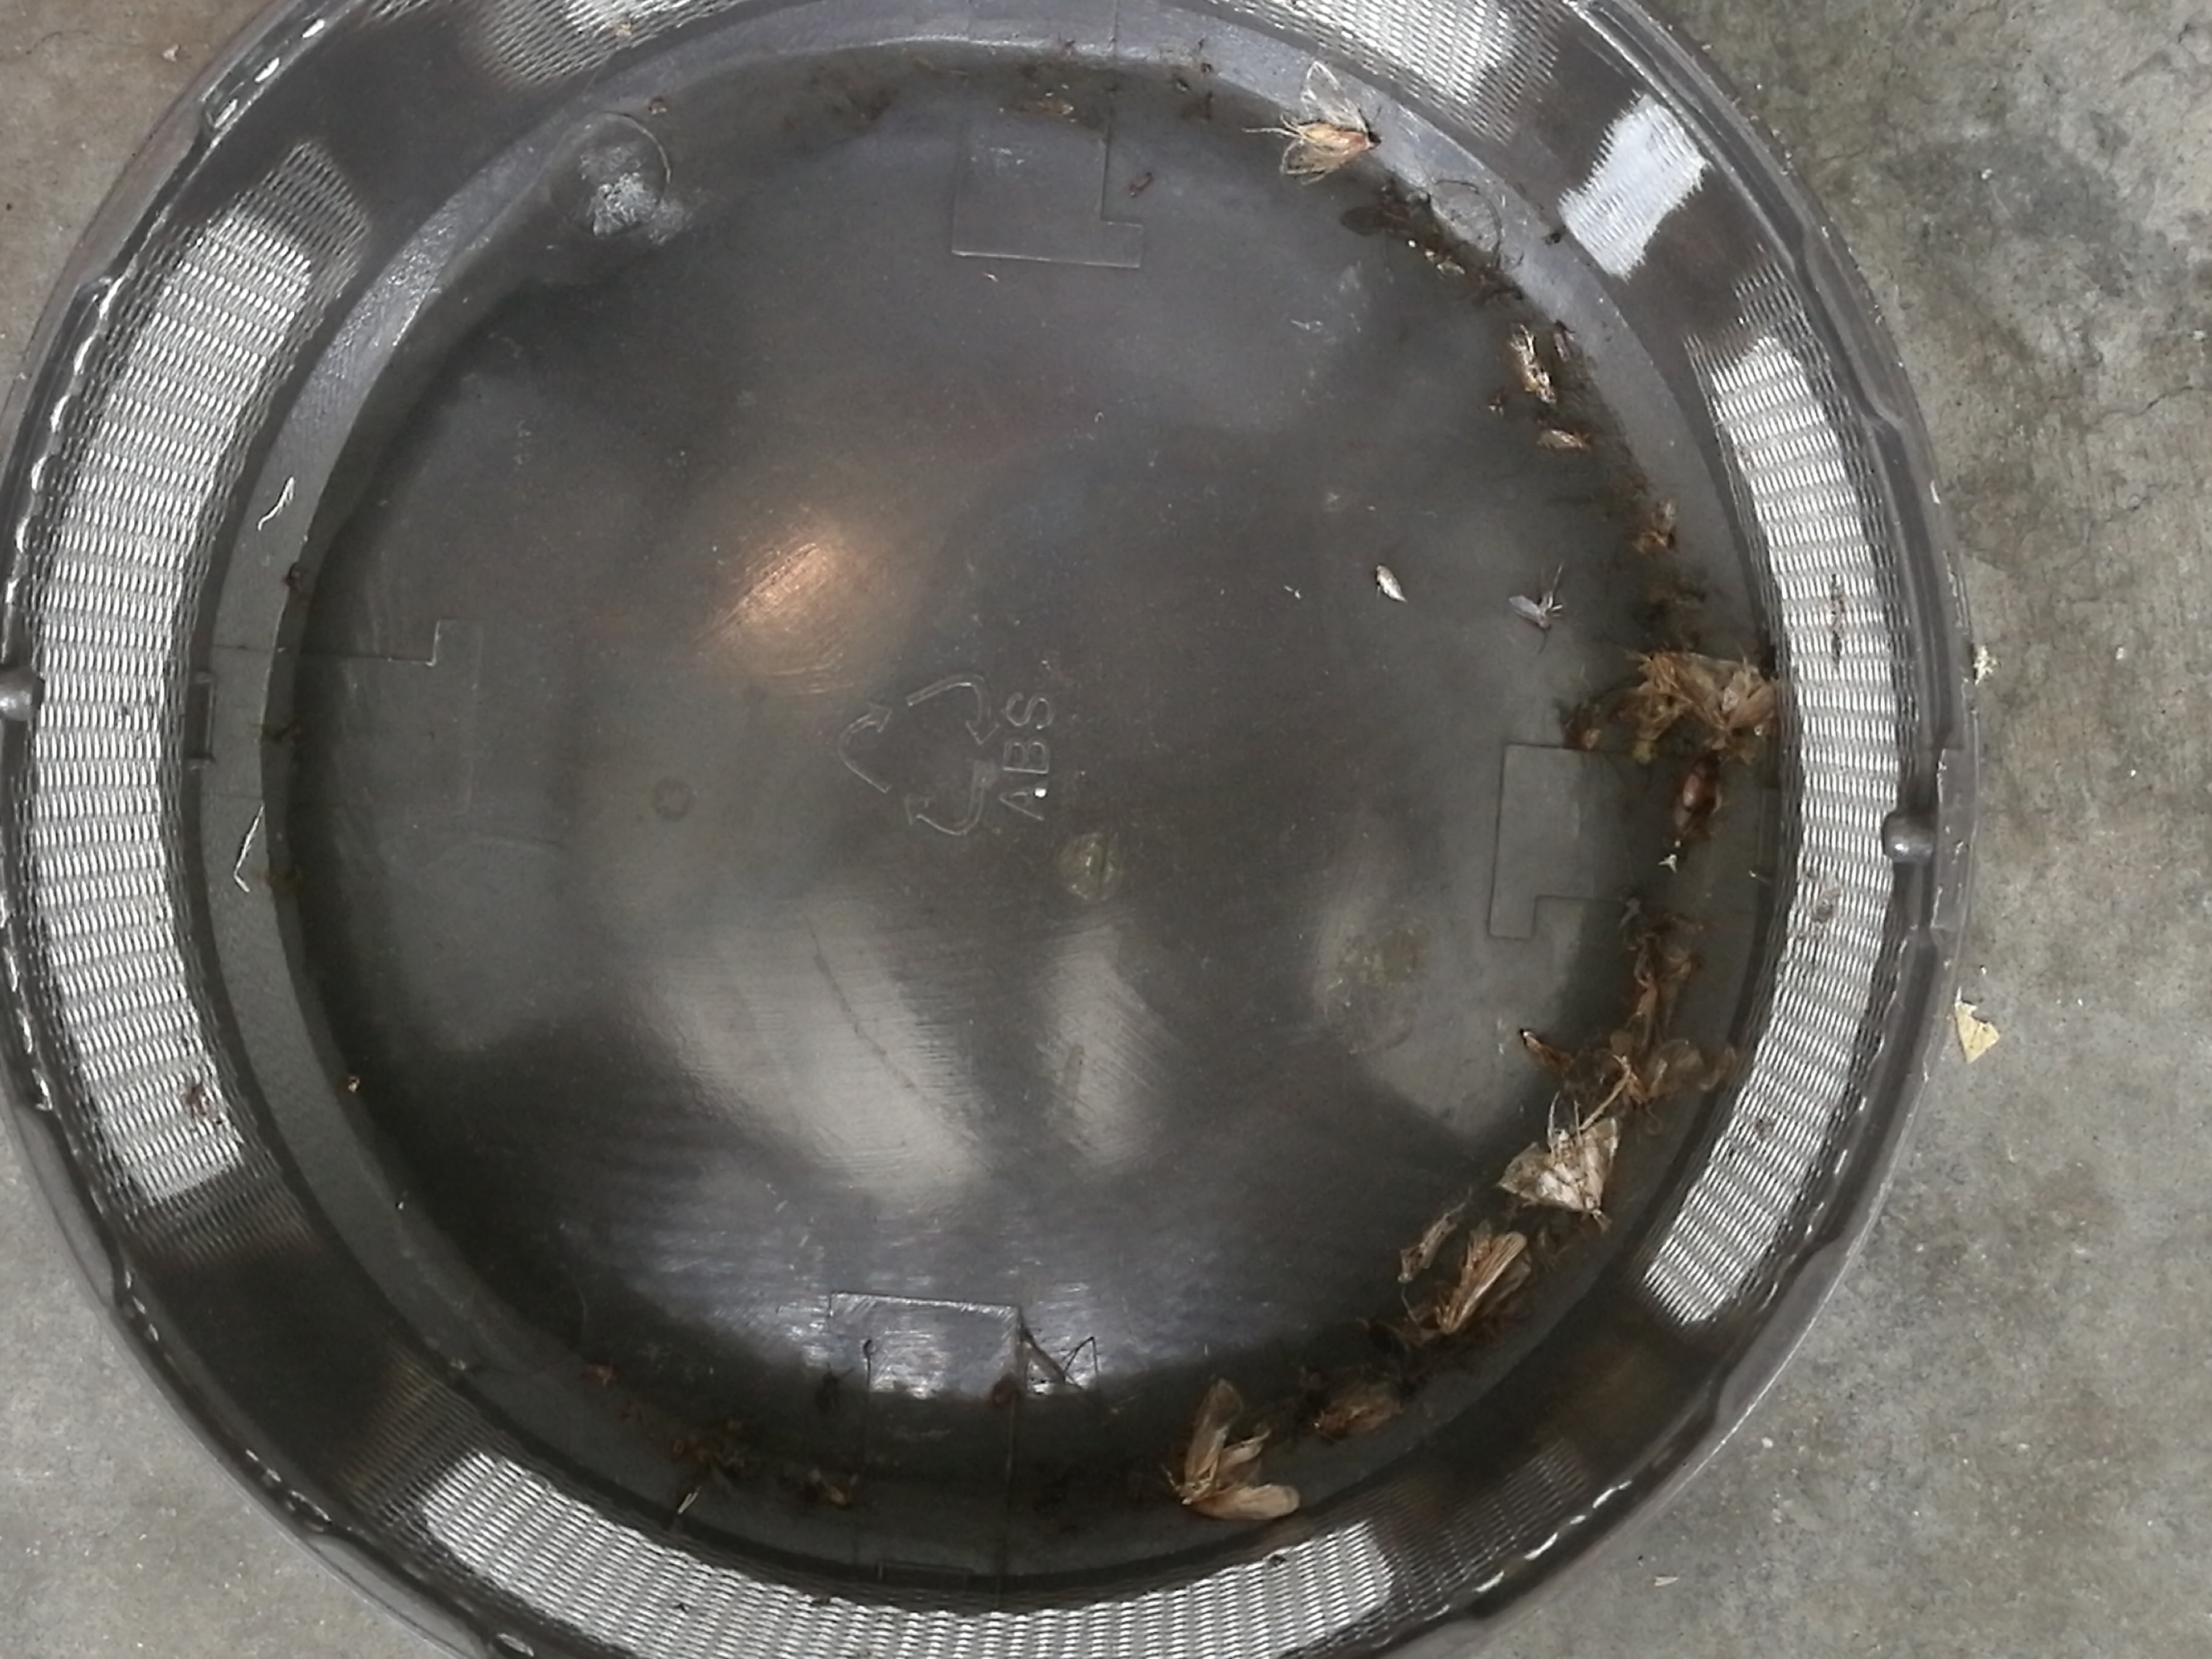mosquito: (1439, 1229, 1524, 1335)
moth: (1183, 1384, 1298, 1518), (1498, 1114, 1618, 1215), (1280, 63, 1376, 186), (1674, 648, 1777, 735)
